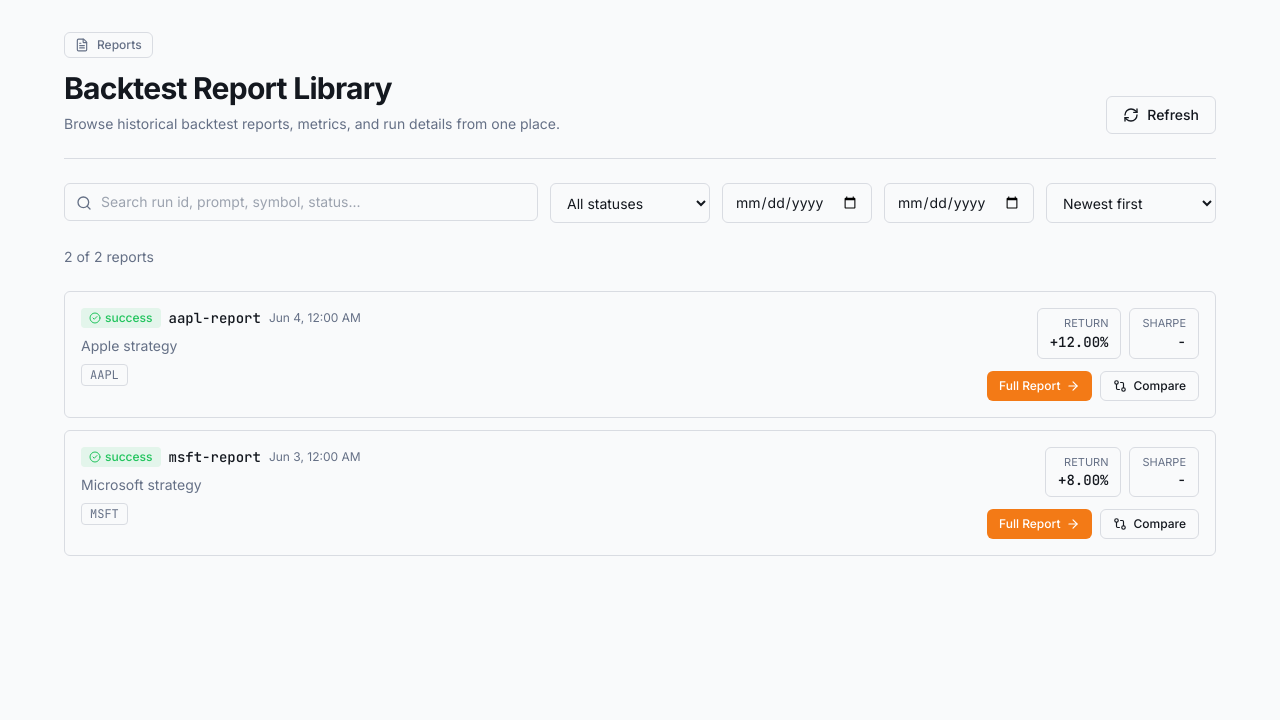
Scenario: Reports page › filters reports by search text
This screenshot has width=1280, height=720.
Check: the link "aapl-report" is shown, box [168,308,261,328]
Type "MSFT" into the field with placeholder "Search run id, prompt, symbol, status..." at (301, 202), box [64,183,538,221]
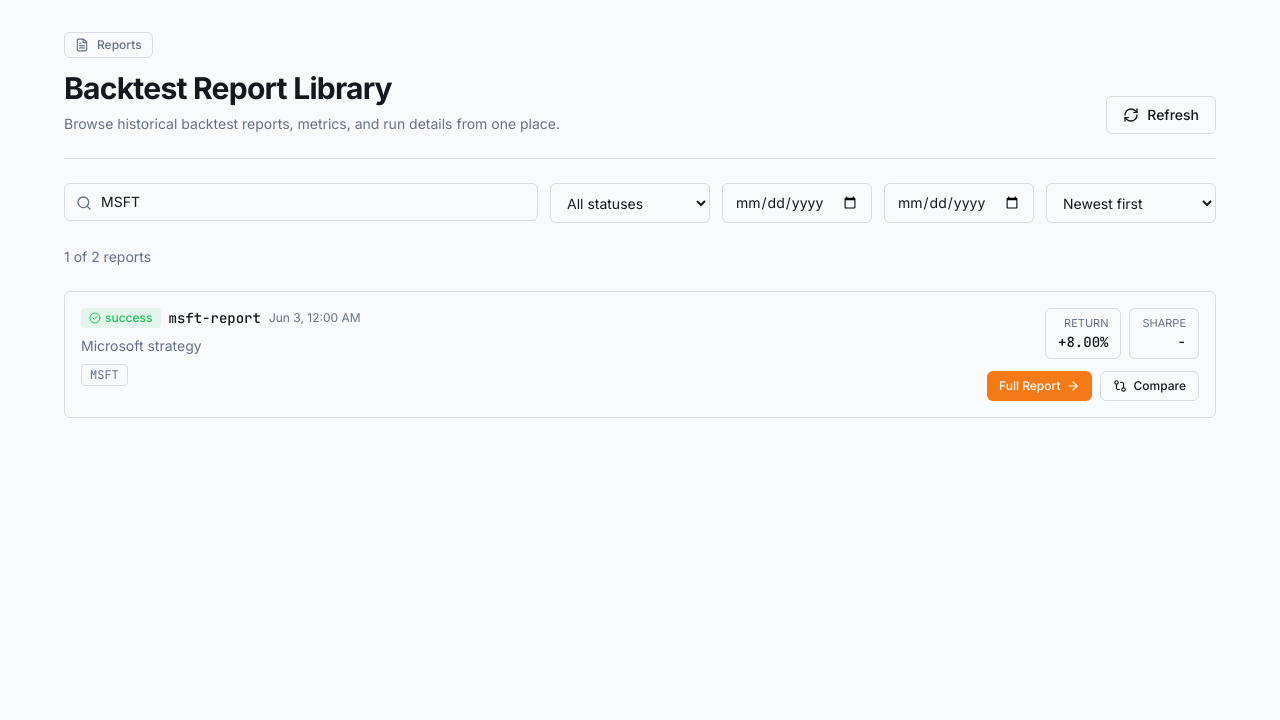
Check: the link "msft-report" is shown, box [168,308,261,328]
Check: the link "aapl-report" is gone
